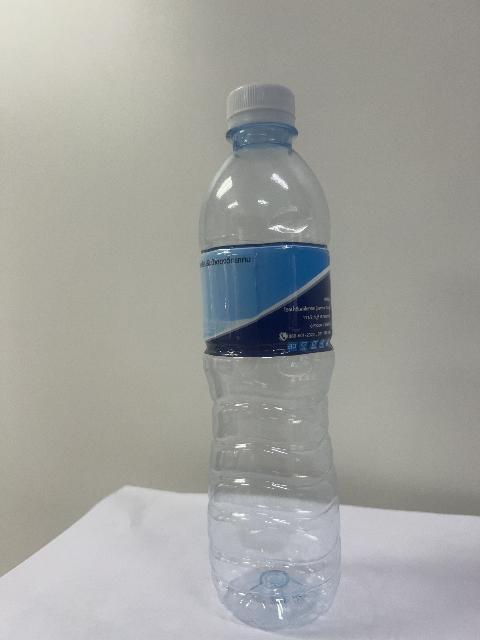bottle: (200, 84, 340, 629)
